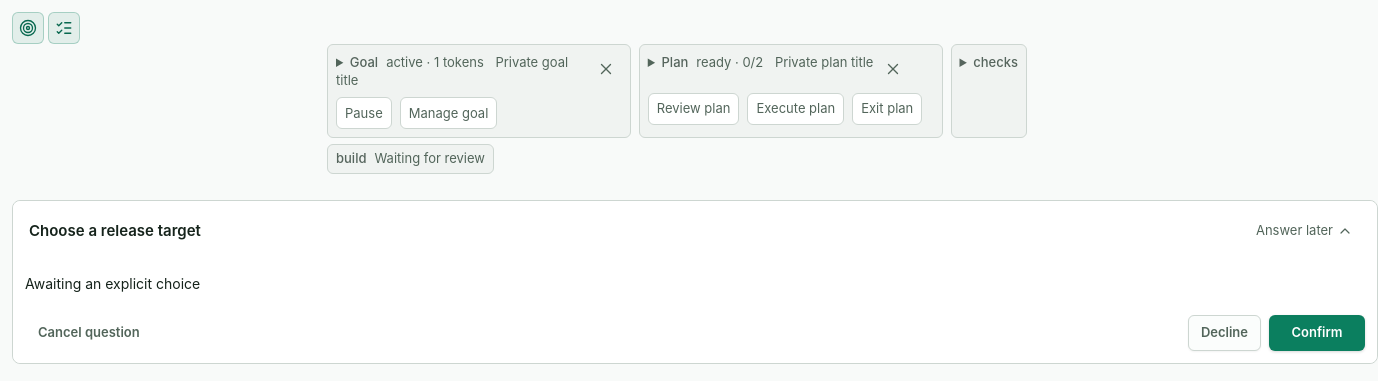
Scenario: ExtensionUIPanel › preserves generic statuses, widgets and unanswered questions when both workflow cards are hidden
This screenshot has width=1378, height=381.
Click the button named "Hide Goal" next to "Private goal title". click: [606, 69]
box: [590,53,622,85]
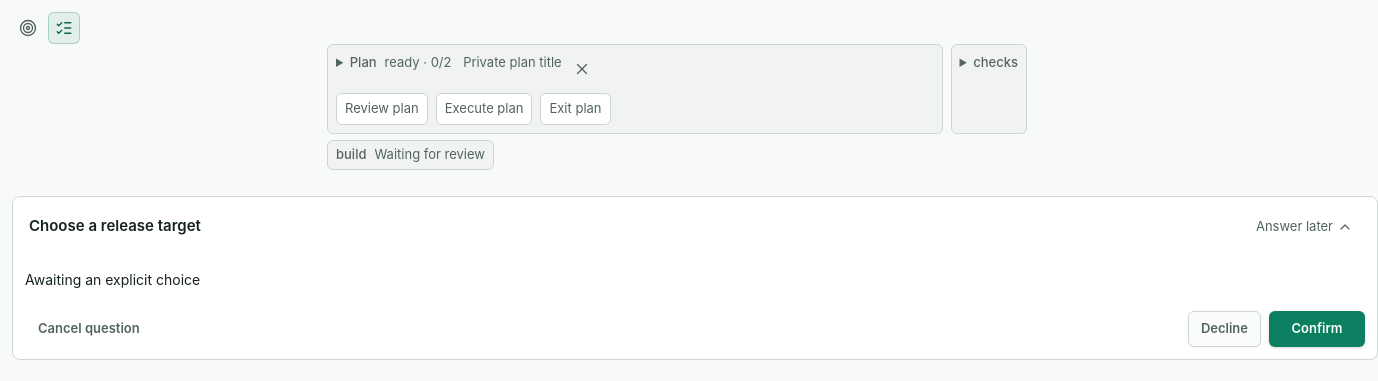
Click the button named "Hide Plan" next to "Private plan title". click: [582, 69]
box: [566,53,598,85]
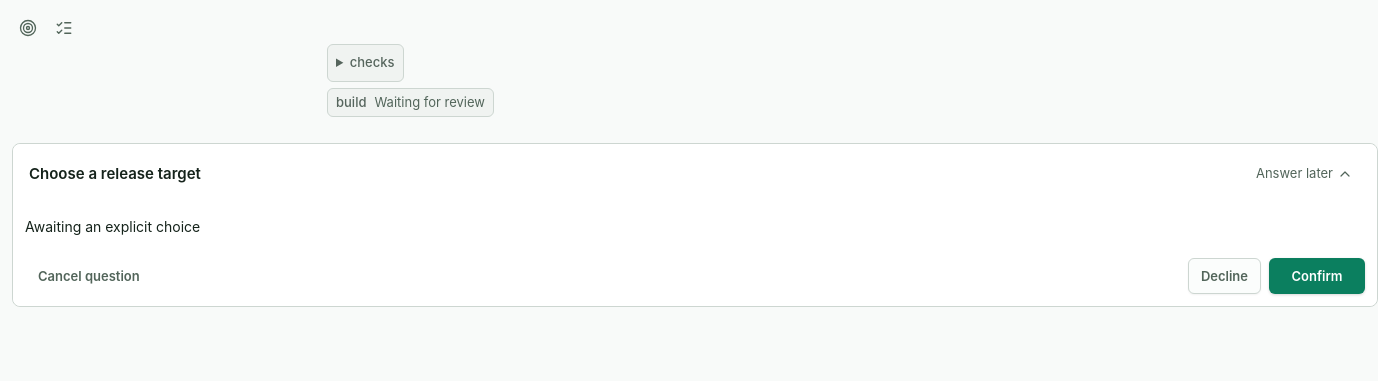
expect the element with test id "extension-status" shows "Waiting for review": met, box [374,94,485,110]
expect the heading with test id "extension-status" no longer shows "Private": met
